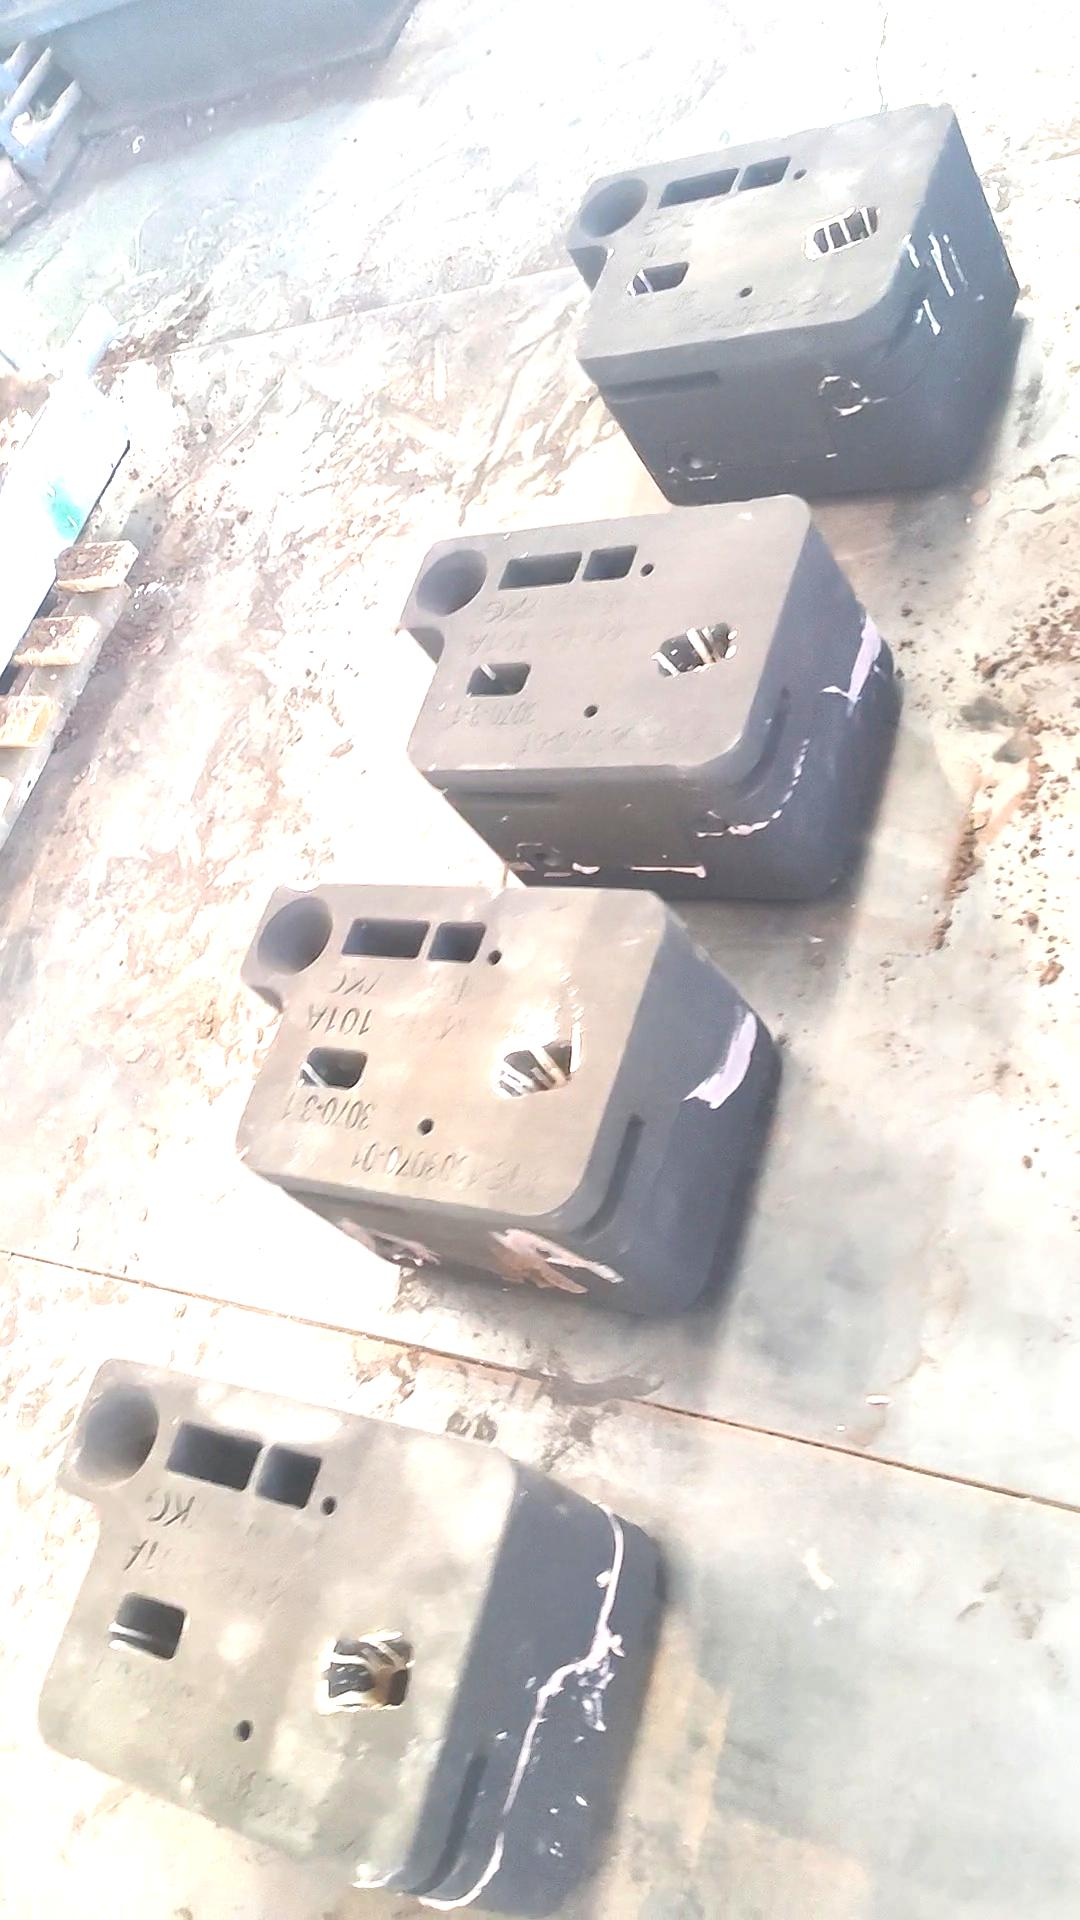pouring hole: (70, 1383, 160, 1487), (257, 895, 334, 975), (417, 549, 488, 615), (578, 178, 649, 236)
